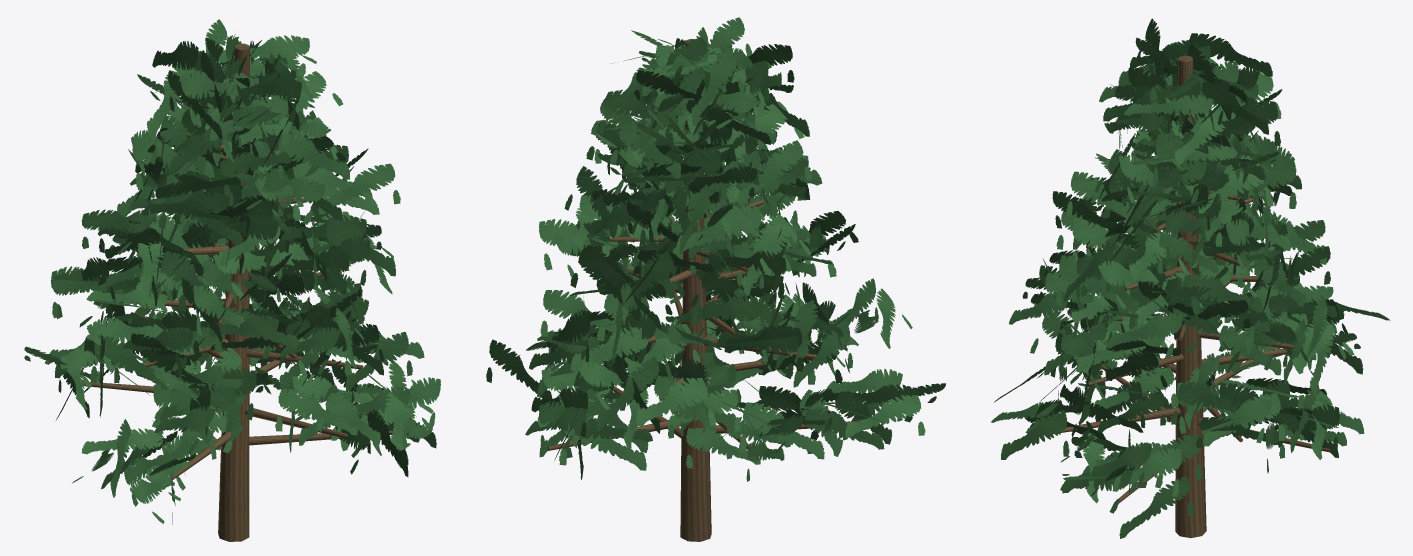
The picture shows the model from 3 angles, left to right: view 1: azimuth 30°, elevation 25°; view 2: azimuth 150°, elevation 25°; view 3: azimuth 270°, elevation 25°; orthographic projection. The views are drawn at different scales.
Parts seen in each view (by area): view 1: pine-needle, pine-bark; view 2: pine-needle, pine-bark; view 3: pine-needle, pine-bark.
Boxes of the visible parts, bbox=[...] form: pine-needle: bbox=[24, 19, 440, 524]; pine-bark: bbox=[81, 43, 392, 541]; pine-needle: bbox=[486, 17, 945, 481]; pine-bark: bbox=[545, 39, 857, 541]; pine-needle: bbox=[991, 18, 1390, 538]; pine-bark: bbox=[1051, 55, 1329, 537].
Size of the model in its own units: 8.13 by 10.27 by 7.86.
Materials: 2 (2 with a texture image).
